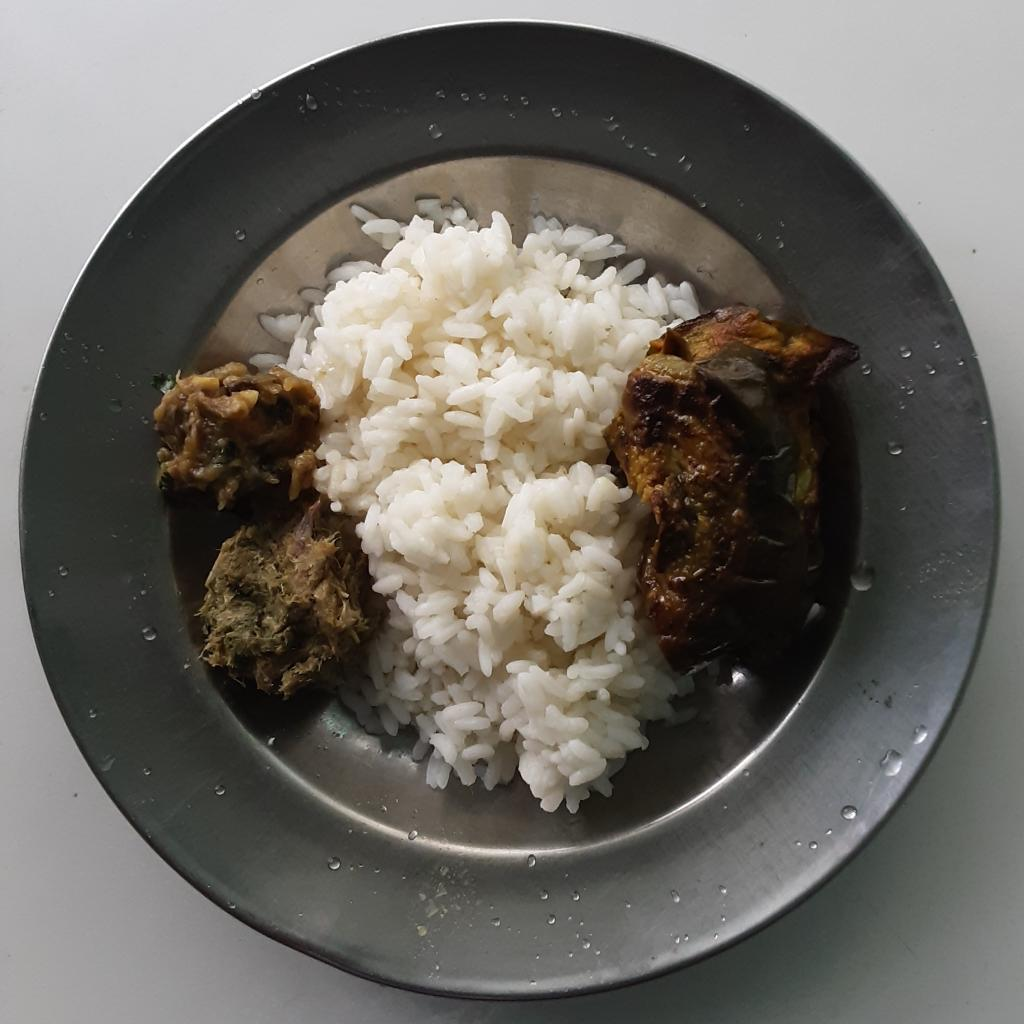begun-vaji: (601, 309, 865, 682), (146, 347, 319, 511)
rice: (257, 185, 701, 818)
vorta: (197, 498, 373, 694)
